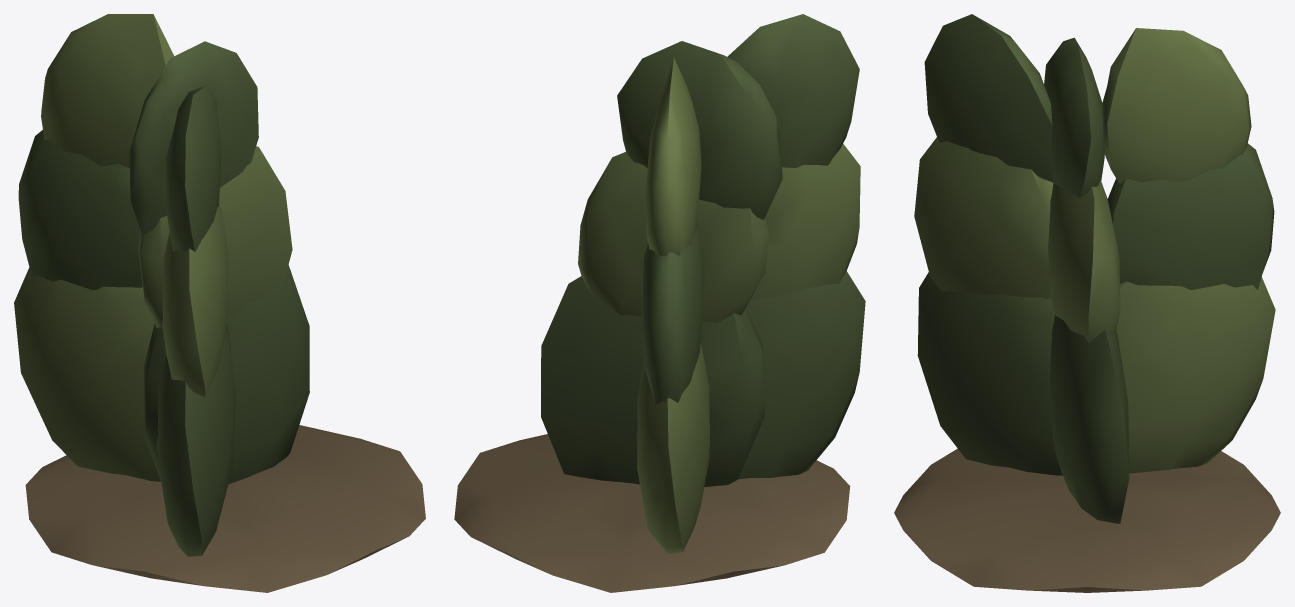
File: prickly_pear_a.glb
3 views of the same model, side by side, from view 1: azimuth 30°, elevation 25°; view 2: azimuth 150°, elevation 25°; view 3: azimuth 270°, elevation 25° (orthographic). The views are drawn at different scales.
Visible parts, largest first — view 1: Surface; view 2: Surface; view 3: Surface.
Part boxes in pixels (<box>): Surface: <box>14,14,425,592</box>; Surface: <box>454,14,865,592</box>; Surface: <box>894,14,1280,592</box>.
Size of the model in its own units: 0.8943 by 1.25 by 0.8932.
